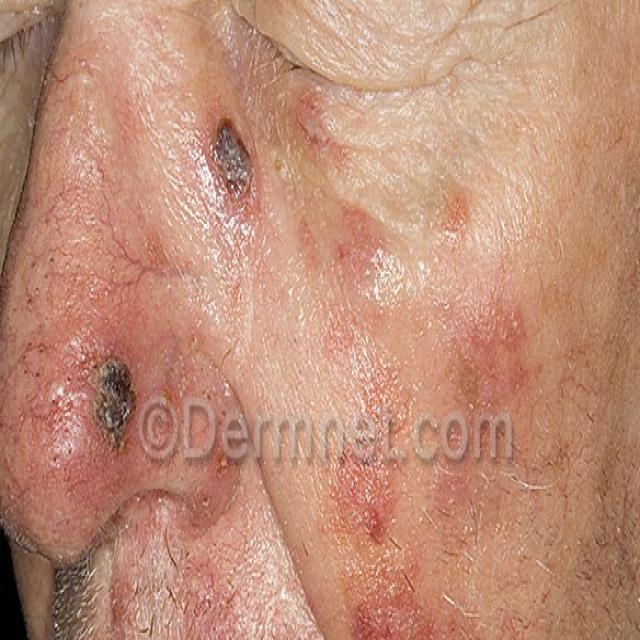Viral Infections: (324, 380, 507, 640), (193, 108, 289, 228), (66, 338, 141, 469), (160, 547, 264, 640), (323, 153, 386, 300), (440, 139, 495, 261)
